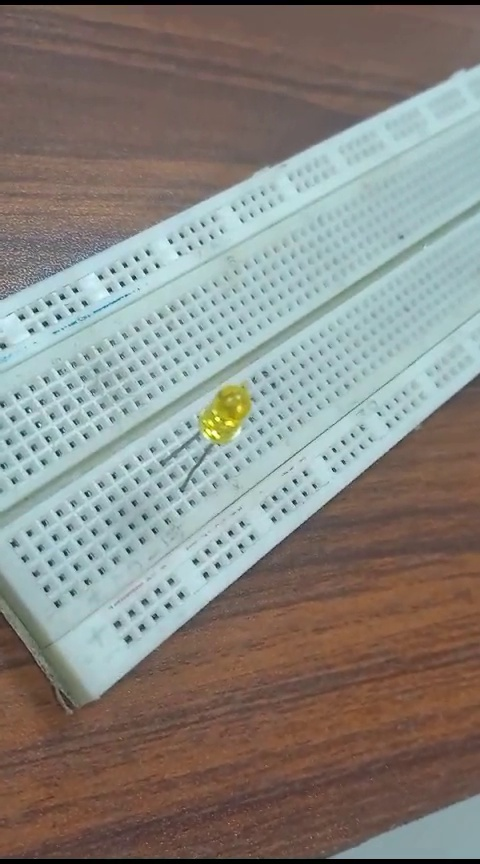LED: (163, 379, 270, 484)
